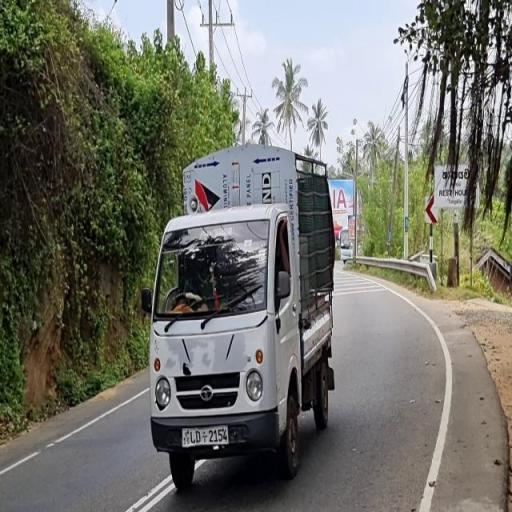double_white_line: (124, 473, 169, 512)
